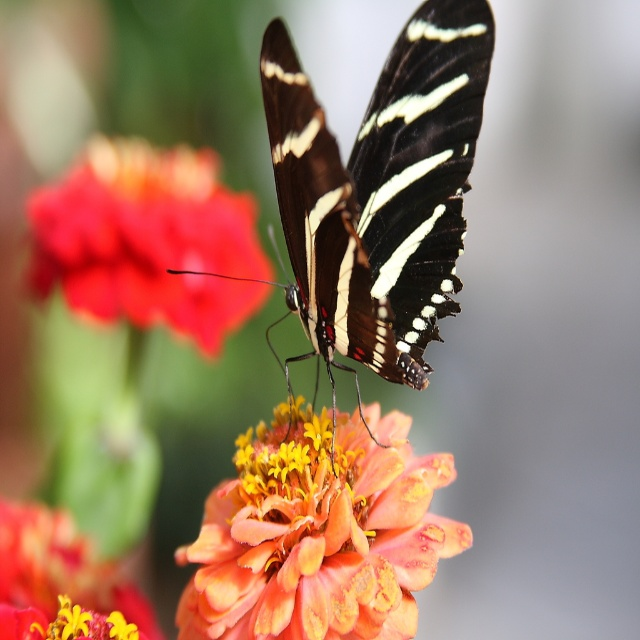Butterfly: (167, 11, 496, 441)
